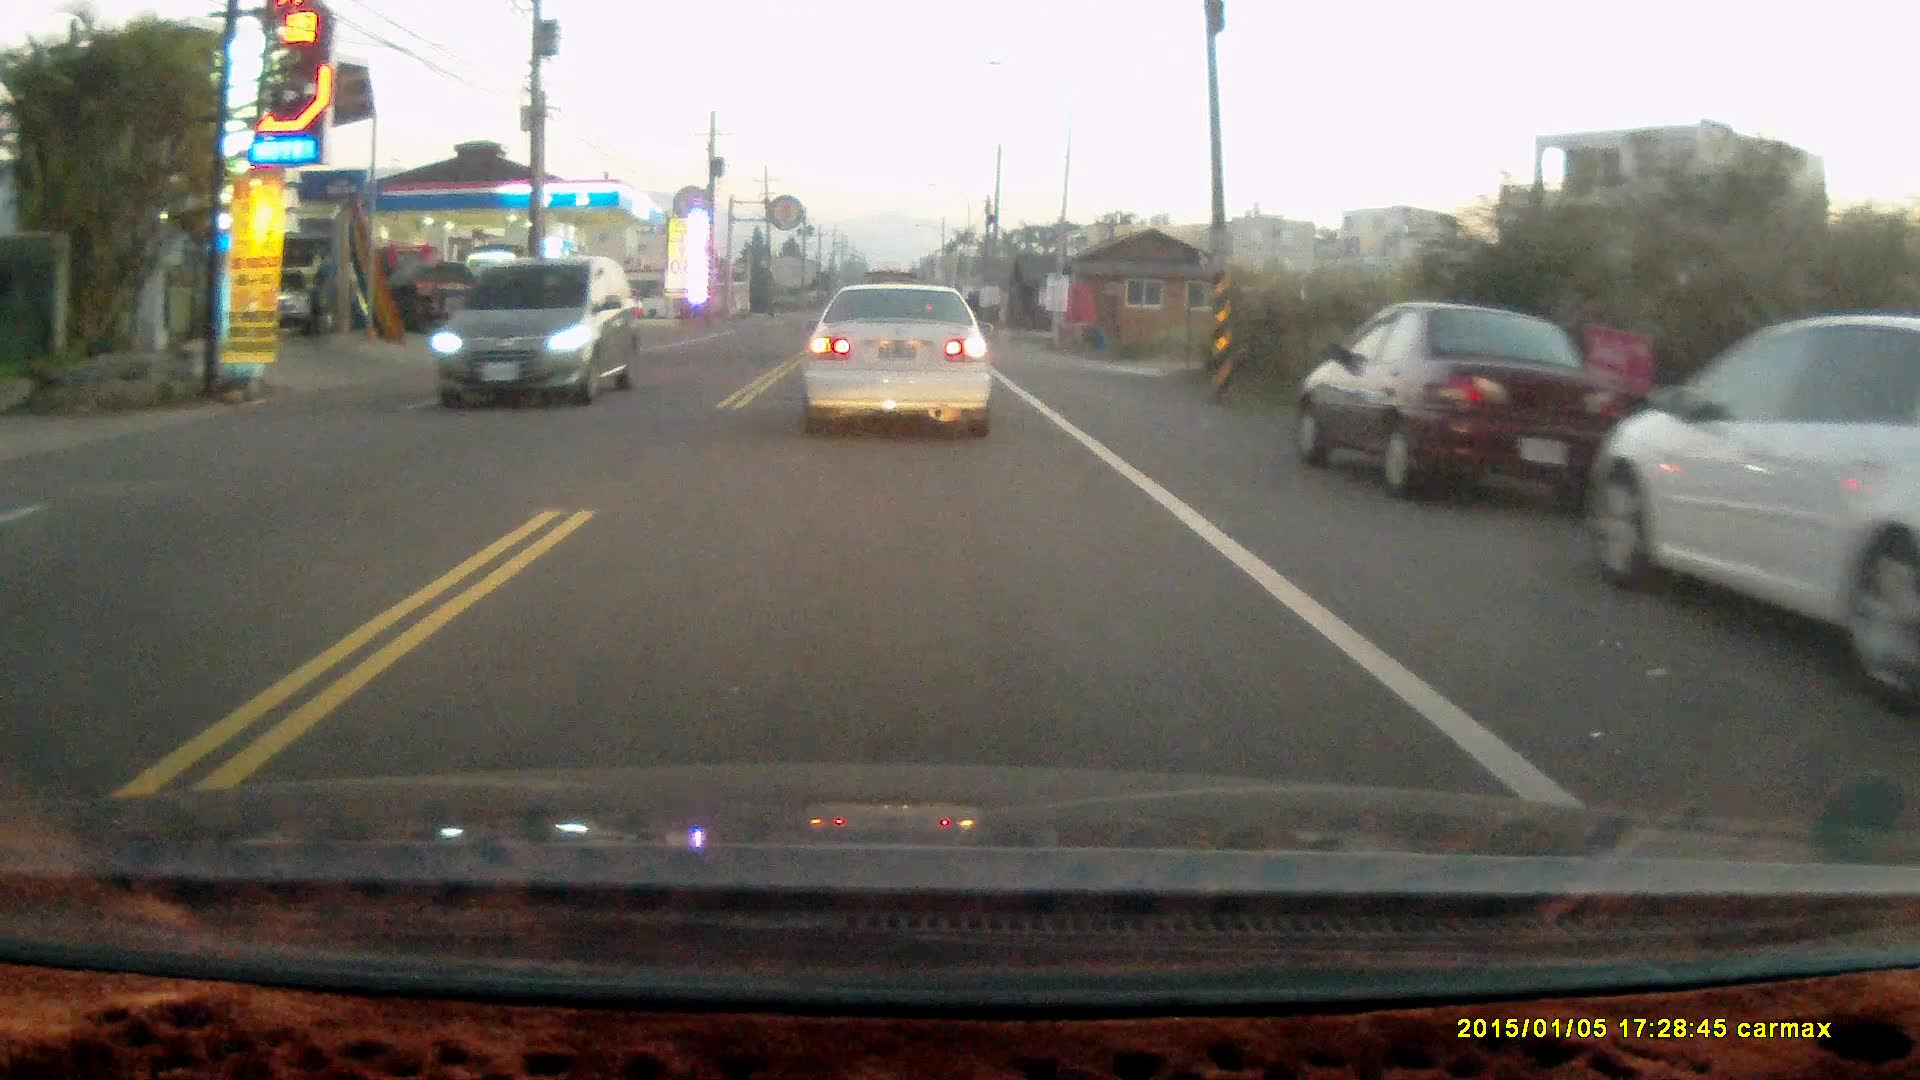vehicle: (1580, 313, 1920, 709), (1295, 301, 1634, 502), (796, 280, 996, 444), (436, 255, 642, 407)
